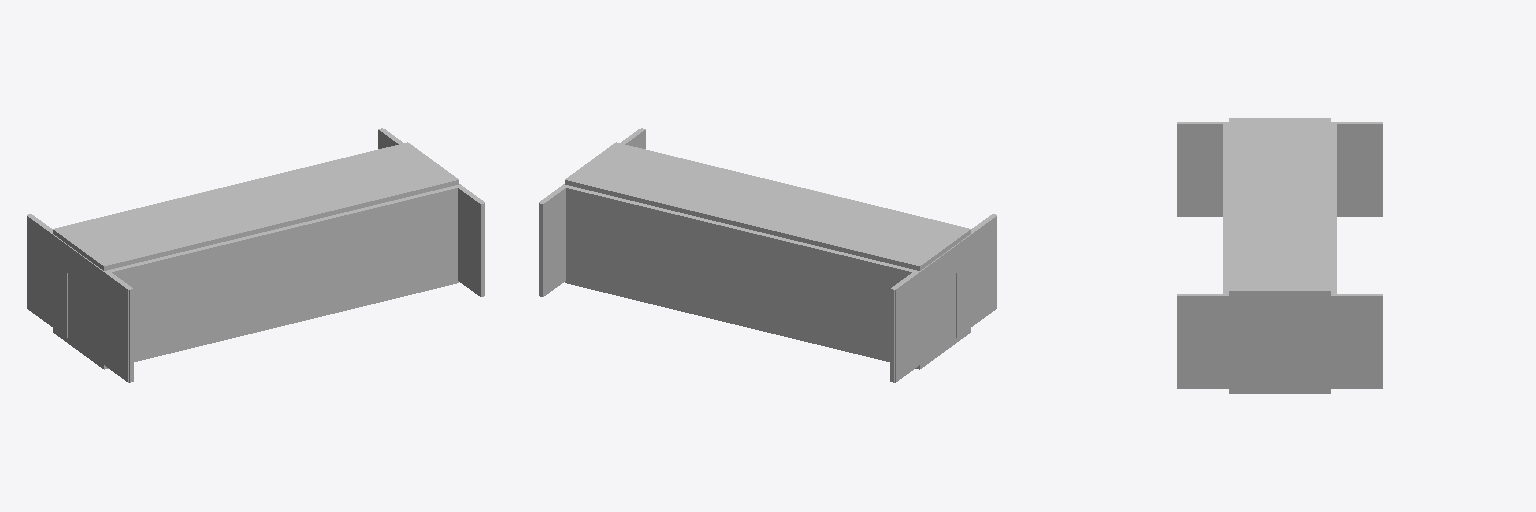
Rendered from 1x1_hotel_hallway.obj.
3 renders of one model, left to right at view 1: azimuth 30°, elevation 25°; view 2: azimuth 150°, elevation 25°; view 3: azimuth 270°, elevation 25°, orthographic.
Visible parts, largest first — view 1: UCX_1x1_hotel_hallway_08, UCX_1x1_hotel_hallway_09, UCX_1x1_hotel_hallway_01, UCX_1x1_hotel_hallway_02, 2x1_hotel_hallway, UCX_1x1_hotel_hallway_00, UCX_1x1_hotel_hallway_06, UCX_1x1_hotel_hallway_03; view 2: UCX_1x1_hotel_hallway_07, UCX_1x1_hotel_hallway_09, 2x1_hotel_hallway, UCX_1x1_hotel_hallway_02, UCX_1x1_hotel_hallway_01, UCX_1x1_hotel_hallway_00, UCX_1x1_hotel_hallway_03; view 3: UCX_1x1_hotel_hallway_09, UCX_1x1_hotel_hallway_04, UCX_1x1_hotel_hallway_06, UCX_1x1_hotel_hallway_01, 2x1_hotel_hallway, UCX_1x1_hotel_hallway_02, UCX_1x1_hotel_hallway_05, UCX_1x1_hotel_hallway_07, UCX_1x1_hotel_hallway_08.
Boxes of the visible parts, x1=… form: UCX_1x1_hotel_hallway_08: x1=104, y1=186, x2=458, y2=359; UCX_1x1_hotel_hallway_09: x1=53, y1=142, x2=458, y2=270; UCX_1x1_hotel_hallway_01: x1=88, y1=260, x2=132, y2=382; UCX_1x1_hotel_hallway_02: x1=27, y1=214, x2=67, y2=337; 2x1_hotel_hallway: x1=28, y1=128, x2=484, y2=382; UCX_1x1_hotel_hallway_00: x1=53, y1=281, x2=458, y2=369; UCX_1x1_hotel_hallway_06: x1=456, y1=184, x2=484, y2=295; UCX_1x1_hotel_hallway_03: x1=67, y1=245, x2=87, y2=287; UCX_1x1_hotel_hallway_07: x1=562, y1=185, x2=919, y2=359; UCX_1x1_hotel_hallway_09: x1=565, y1=142, x2=970, y2=270; 2x1_hotel_hallway: x1=539, y1=128, x2=995, y2=382; UCX_1x1_hotel_hallway_02: x1=891, y1=260, x2=935, y2=382; UCX_1x1_hotel_hallway_01: x1=956, y1=214, x2=996, y2=337; UCX_1x1_hotel_hallway_00: x1=565, y1=281, x2=970, y2=369; UCX_1x1_hotel_hallway_03: x1=936, y1=245, x2=956, y2=287; UCX_1x1_hotel_hallway_09: x1=1229, y1=118, x2=1330, y2=295; UCX_1x1_hotel_hallway_04: x1=1301, y1=294, x2=1380, y2=388; UCX_1x1_hotel_hallway_06: x1=1179, y1=294, x2=1258, y2=388; UCX_1x1_hotel_hallway_01: x1=1179, y1=122, x2=1228, y2=216; 2x1_hotel_hallway: x1=1177, y1=122, x2=1382, y2=390; UCX_1x1_hotel_hallway_02: x1=1331, y1=122, x2=1380, y2=216; UCX_1x1_hotel_hallway_05: x1=1259, y1=296, x2=1300, y2=323; UCX_1x1_hotel_hallway_07: x1=1331, y1=122, x2=1336, y2=293; UCX_1x1_hotel_hallway_08: x1=1223, y1=122, x2=1228, y2=293.
Size of the model in its own units: 40.2 by 11.1 by 20.